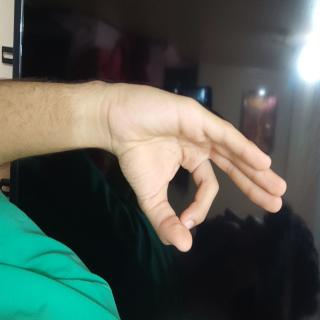Space: (59, 40, 190, 305)
